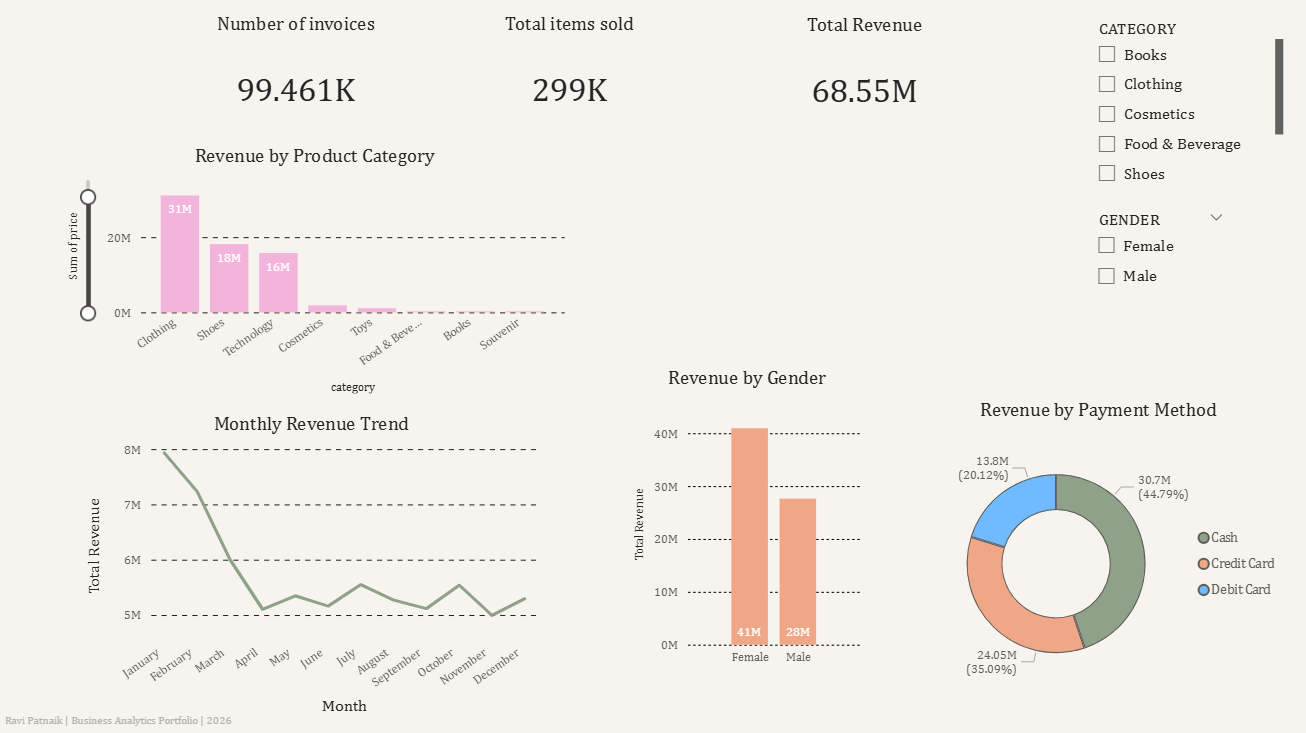

The dashboard page shown, as its layout file describes it:
{"tool":"powerbi","page":{"name":"Executive Overview","canvas":[1280,720],"ordinal":0},"visuals":[{"type":"cardVisual","title":"Total Revenue","fields":{"Data":["Sum(customer_shopping_cleaned.price)"]},"box":[727.8,15.6,230,127.8],"z":0},{"type":"cardVisual","title":"Number of invoices","fields":{"Data":["CountNonNull(customer_shopping_cleaned.invoice_no)"]},"box":[173.3,14.4,230,127.8],"z":1000},{"type":"cardVisual","title":"Total items sold","fields":{"Data":["Sum(customer_shopping_cleaned.quantity)"]},"box":[440,14.4,230,127.8],"z":2000},{"type":"clusteredColumnChart","title":"Revenue by Product Category","fields":{"Category":["customer_shopping_cleaned.category"],"Y":["Sum(customer_shopping_cleaned.price)"]},"box":[57.8,143.3,497.8,247.8],"z":3000},{"type":"lineChart","title":"Monthly Revenue Trend","fields":{"Y":["Sum(customer_shopping_cleaned.price)"],"Category":["customer_shopping_cleaned.invoice_date.Variation.Date Hierarchy.Month"]},"box":[77.8,404.4,451.1,300],"z":4000},{"type":"clusteredColumnChart","title":"Revenue by Gender","fields":{"Category":["customer_shopping_cleaned.gender"],"Y":["Sum(customer_shopping_cleaned.price)"]},"box":[612.2,360,232.2,300],"z":5000},{"type":"donutChart","title":"Revenue by Payment Method","fields":{"Category":["customer_shopping_cleaned.payment_method"],"Y":["Sum(customer_shopping_cleaned.price)"]},"box":[885,391.2,370,300],"z":6000},{"type":"slicer","fields":{"Values":["customer_shopping_cleaned.category"]},"box":[1057.8,15.6,197.8,177.8],"z":7000},{"type":"slicer","fields":{"Values":["customer_shopping_cleaned.gender"]},"box":[1057.8,202.2,146.7,105.6],"z":8000},{"type":"textbox","box":[0,691.1,243.3,26.7],"z":9000}]}

Visuals, with their boxes in screenshot pixels (x1, y1, x2, y2), scaled from the page's 1280x720 canvas onto the 1306x733 screenshot:
"Total Revenue" cardVisual: Rect(743, 16, 977, 146)
"Number of invoices" cardVisual: Rect(177, 15, 411, 145)
"Total items sold" cardVisual: Rect(449, 15, 684, 145)
"Revenue by Product Category" clusteredColumnChart: Rect(59, 146, 567, 398)
"Monthly Revenue Trend" lineChart: Rect(79, 412, 540, 717)
"Revenue by Gender" clusteredColumnChart: Rect(625, 366, 862, 672)
"Revenue by Payment Method" donutChart: Rect(903, 398, 1280, 704)
slicer - customer_shopping_cleaned.category: Rect(1079, 16, 1281, 197)
slicer - customer_shopping_cleaned.gender: Rect(1079, 206, 1229, 313)
textbox: Rect(0, 704, 248, 731)
